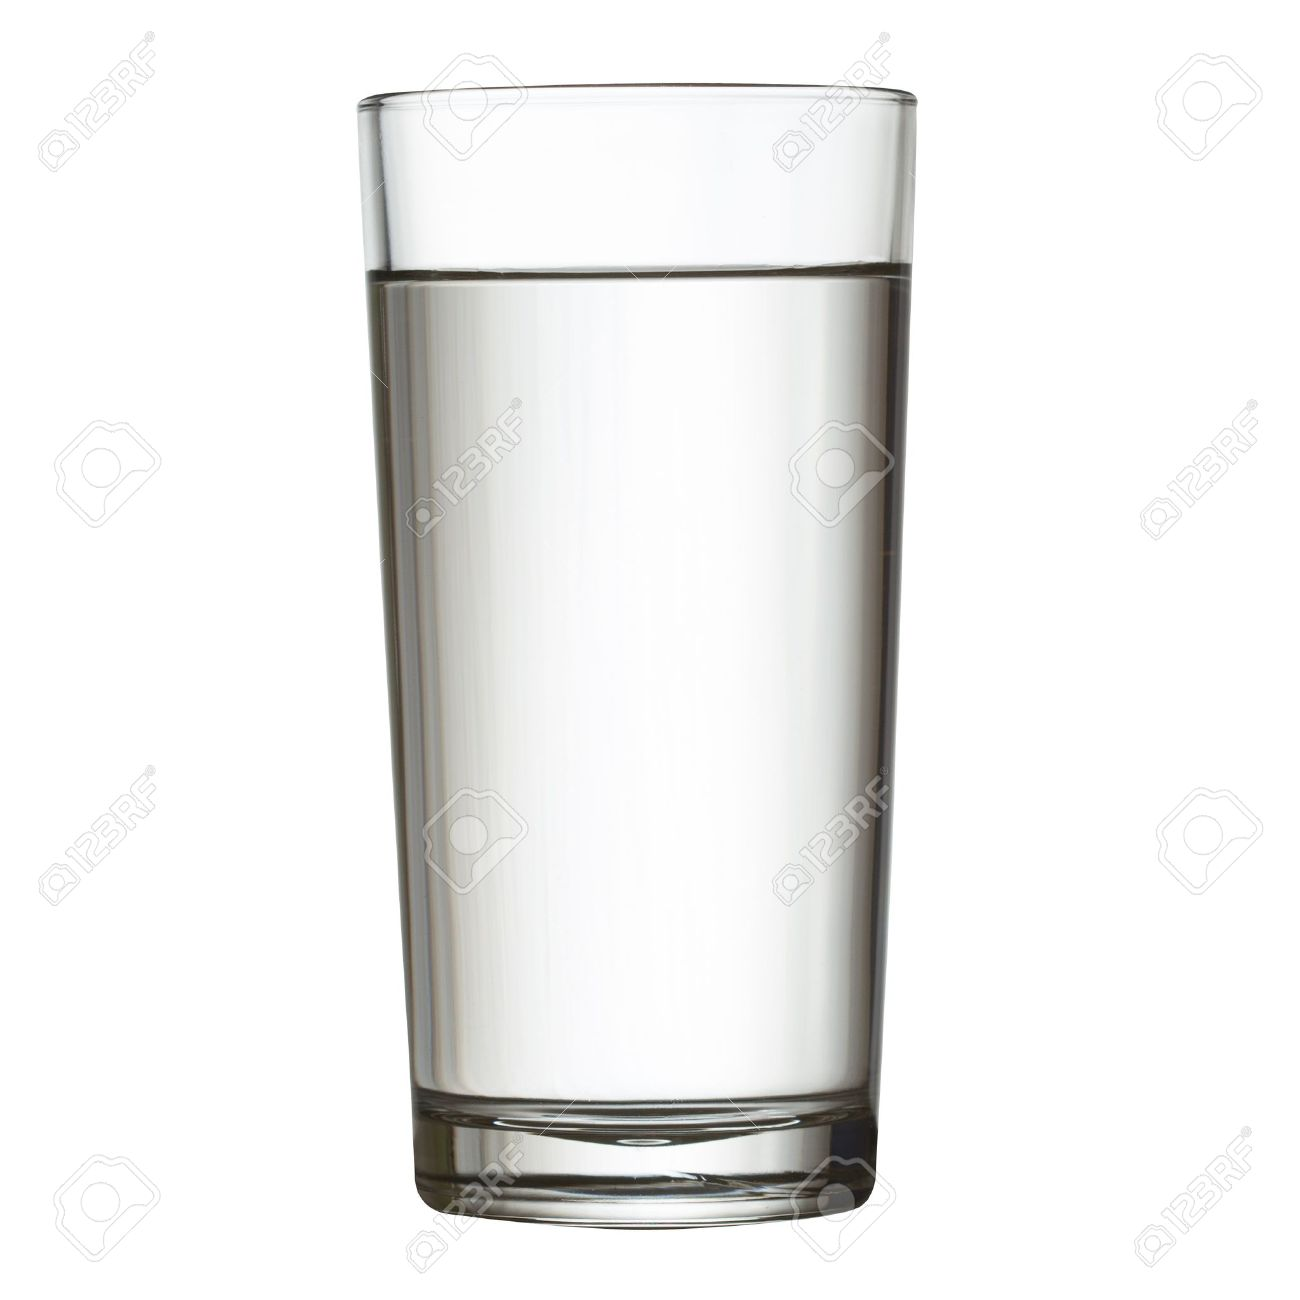glass of water: (317, 60, 921, 1254)
